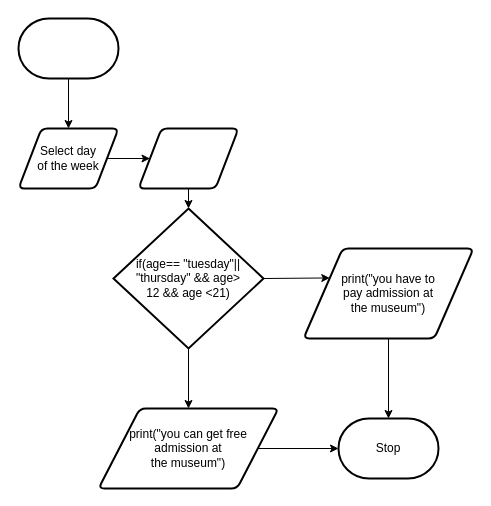
The diagram is 491 pixels wide and 506 high, and some of its shapes have lost their labels. Each missing label, with the centre of its shape:
"Input age" goes at point 188,158.
"Start" goes at point 68,48.
